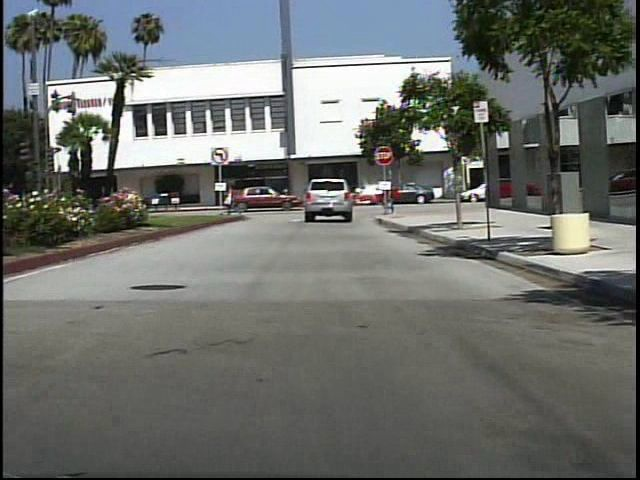person: (378, 174, 401, 216), (226, 180, 246, 218), (259, 180, 276, 207)
